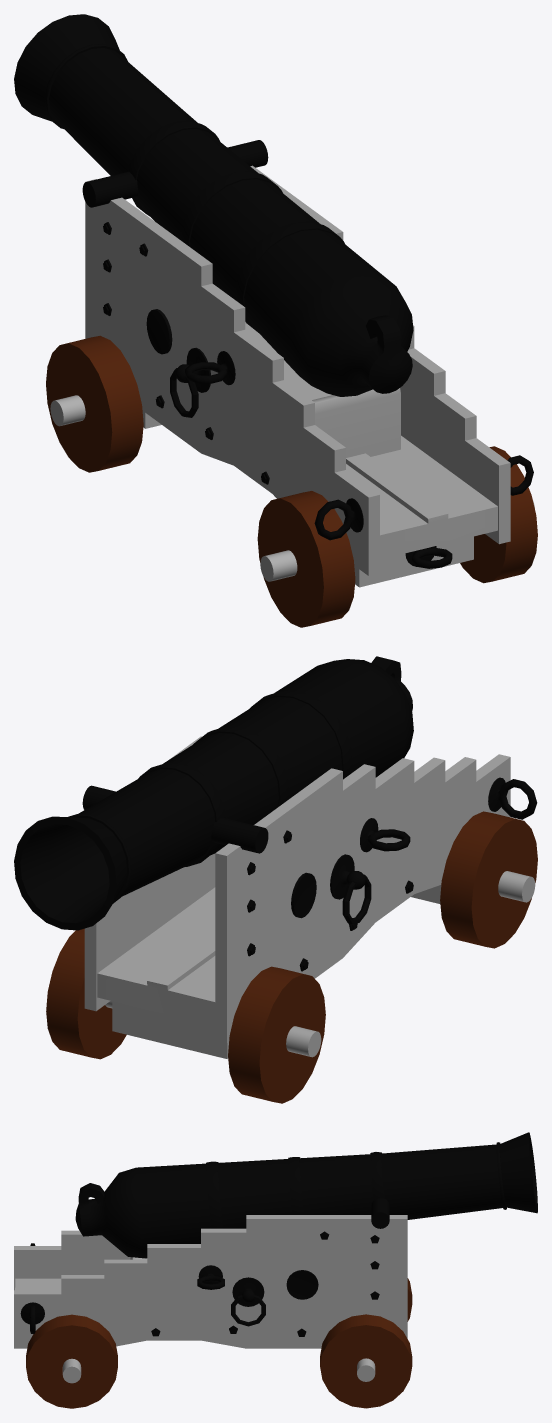
Rendered from Cannon model.fbx.
The picture shows the model from 3 angles, top to bottom: view 1: azimuth 30°, elevation 25°; view 2: azimuth 150°, elevation 25°; view 3: azimuth 270°, elevation 25°; orthographic projection. The views are drawn at different scales.
Visible parts, largest first — view 1: pCylinder1, pCube2, pCube3, pCylinder6, pCube5, pCylinder4, pCube7, pCylinder3, pCylinder27, pCube4, pTorus3, pTorus2 (+5 smaller); view 2: pCylinder1, pCube2, pCube3, pCylinder6, pCylinder4, pCube5, pCylinder5, pCube6, pCylinder27, pTorus3, pTorus2, pSphere2 (+4 smaller); view 3: pCube5, pCylinder1, pCylinder5, pCylinder3, pCube2, pCylinder22, pCube3, pCylinder18, pTorus4, pSphere3, pCylinder27, pTorus5 (+2 smaller).
Part boxes in pixels (left/top/right/bottom): pCylinder1: left=14, top=14, right=413, bottom=396; pCube2: left=85, top=179, right=379, bottom=575; pCube3: left=245, top=322, right=497, bottom=559; pCylinder6: left=46, top=335, right=143, bottom=472; pCube5: left=227, top=147, right=510, bottom=544; pCylinder4: left=257, top=491, right=355, bottom=627; pCube7: left=312, top=388, right=400, bottom=457; pCylinder3: left=460, top=446, right=537, bottom=583; pCylinder27: left=82, top=140, right=268, bottom=207; pCube4: left=354, top=536, right=473, bottom=587; pTorus3: left=314, top=498, right=363, bottom=540; pTorus2: left=185, top=351, right=235, bottom=385; pCylinder1: left=14, top=656, right=413, bottom=930; pCube2: left=215, top=754, right=510, bottom=1043; pCube3: left=97, top=887, right=215, bottom=1025; pCylinder6: left=228, top=966, right=325, bottom=1103; pCylinder4: left=440, top=811, right=537, bottom=948; pCube5: left=84, top=736, right=215, bottom=1011; pCylinder5: left=46, top=928, right=126, bottom=1059; pCube6: left=112, top=1001, right=228, bottom=1058; pCylinder27: left=82, top=785, right=268, bottom=853; pTorus3: left=488, top=777, right=537, bottom=819; pTorus2: left=360, top=818, right=410, bottom=852; pSphere2: left=342, top=871, right=371, bottom=924; pCube5: left=14, top=1215, right=407, bottom=1348; pCylinder1: left=75, top=1132, right=537, bottom=1258; pCylinder5: left=320, top=1314, right=412, bottom=1408; pCylinder3: left=26, top=1314, right=117, bottom=1408; pCube2: left=14, top=1230, right=129, bottom=1290; pCylinder22: left=286, top=1270, right=318, bottom=1299; pCube3: left=15, top=1278, right=61, bottom=1290; pCylinder18: left=232, top=1277, right=264, bottom=1306; pTorus4: left=197, top=1265, right=224, bottom=1289; pSphere3: left=231, top=1289, right=265, bottom=1326; pCylinder27: left=371, top=1198, right=389, bottom=1228; pTorus5: left=20, top=1302, right=44, bottom=1333.
Size of the model in its own units: 4.55 by 5.67 by 11.38.
